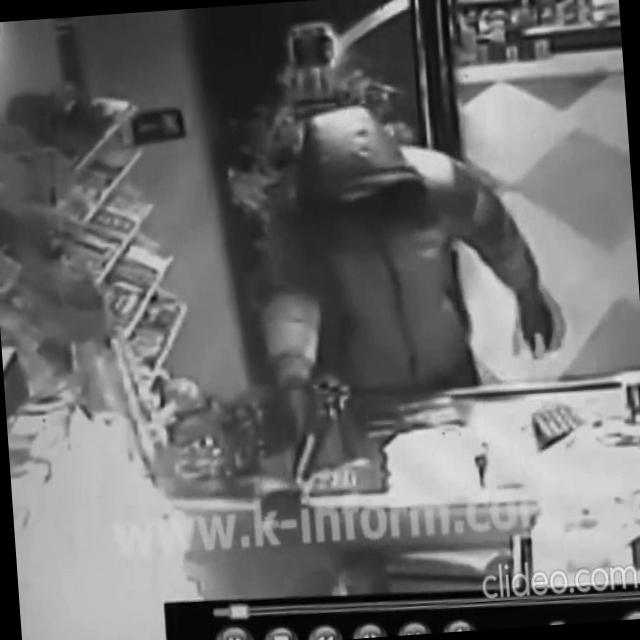gun: (284, 408, 334, 486)
person with a gun: (246, 86, 575, 490)
